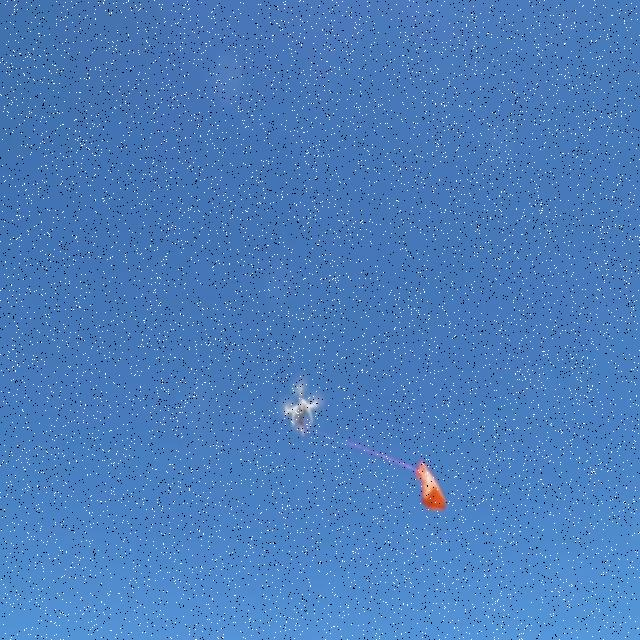UAV: (280, 378, 324, 436)
